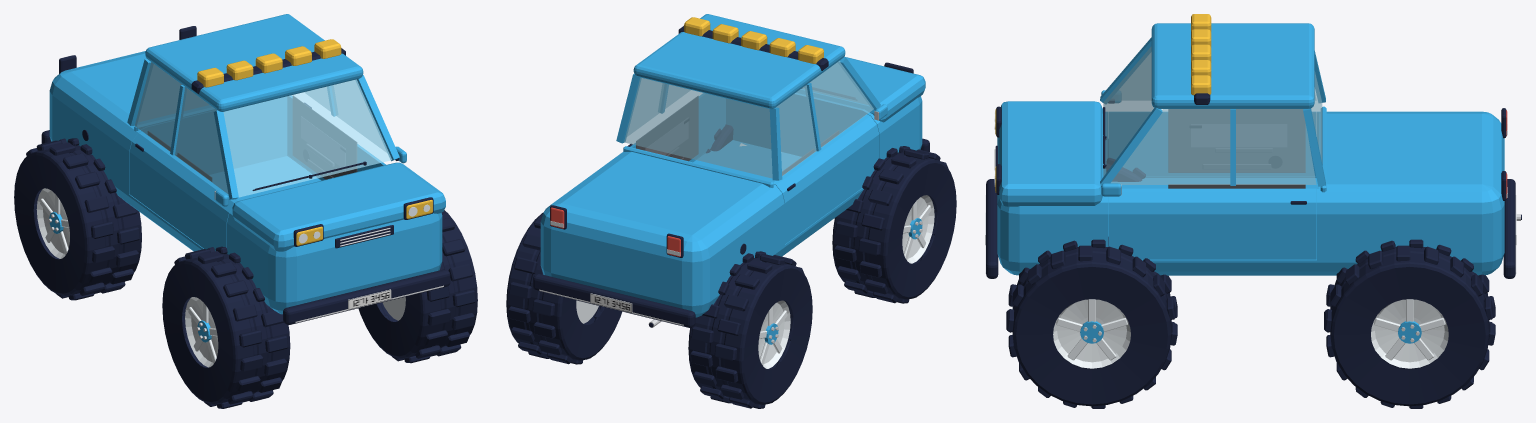
File: B01_monster_truck_v3.glb
The picture shows the model from 3 angles, left to right: view 1: azimuth 30°, elevation 25°; view 2: azimuth 150°, elevation 25°; view 3: azimuth 270°, elevation 25°; orthographic projection. The views are drawn at different scales.
Parts seen in each view (by area): view 1: Body, Glass, Wheel_RR, Wheel_FR, Wheel_FL, Static, Door_R, DoorDetail_L, Door_L; view 2: Body, Glass, Wheel_FR, Wheel_RR, Wheel_RL, Door_R, Static, DoorDetail_L, Door_L, Trunk; view 3: Body, Wheel_FL, Wheel_RL, Glass, Door_L, DoorDetail_R, Static, Door_R, DoorDetail_L.
Part boxes in pixels (left/top/right/bottom): Body: left=49, top=14, right=445, bottom=314; Glass: left=135, top=62, right=391, bottom=197; Wheel_RR: left=14, top=138, right=141, bottom=300; Wheel_FR: left=162, top=246, right=290, bottom=408; Wheel_FL: left=358, top=210, right=477, bottom=363; Static: left=41, top=26, right=450, bottom=324; Door_R: left=129, top=131, right=237, bottom=251; DoorDetail_L: left=293, top=95, right=357, bottom=179; Door_L: left=288, top=96, right=385, bottom=180; Body: left=540, top=14, right=925, bottom=317; Glass: left=624, top=61, right=873, bottom=178; Wheel_FR: left=832, top=146, right=956, bottom=303; Wheel_RR: left=688, top=251, right=812, bottom=408; Wheel_RL: left=506, top=212, right=621, bottom=364; Door_R: left=773, top=114, right=879, bottom=243; Static: left=533, top=17, right=929, bottom=327; DoorDetail_L: left=627, top=96, right=698, bottom=161; Door_L: left=630, top=93, right=724, bottom=161; Trunk: left=623, top=146, right=773, bottom=187; Body: left=997, top=23, right=1504, bottom=275; Wheel_FL: left=1006, top=237, right=1177, bottom=408; Wheel_RL: left=1324, top=239, right=1495, bottom=408; Glass: left=1103, top=46, right=1322, bottom=184; Door_L: left=1108, top=188, right=1316, bottom=259; DoorDetail_R: left=1168, top=109, right=1305, bottom=172; Static: left=985, top=14, right=1521, bottom=278; Door_R: left=1108, top=112, right=1316, bottom=176; DoorDetail_L: left=1168, top=184, right=1306, bottom=204.
Size of what is drawn, in the model's own units: 2.97 by 3.25 by 5.27.
Materials: 3 (1 with a texture image).
